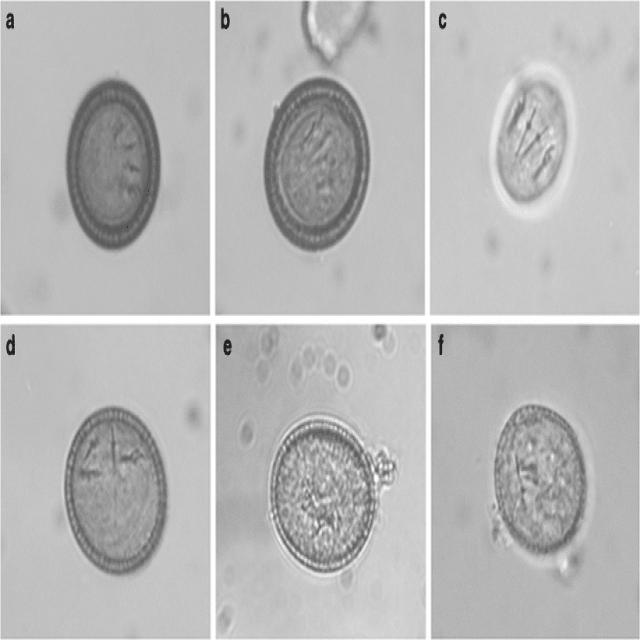Taenia Sp: (265, 400, 381, 588), (259, 73, 370, 260), (61, 402, 172, 582), (64, 75, 167, 255)
